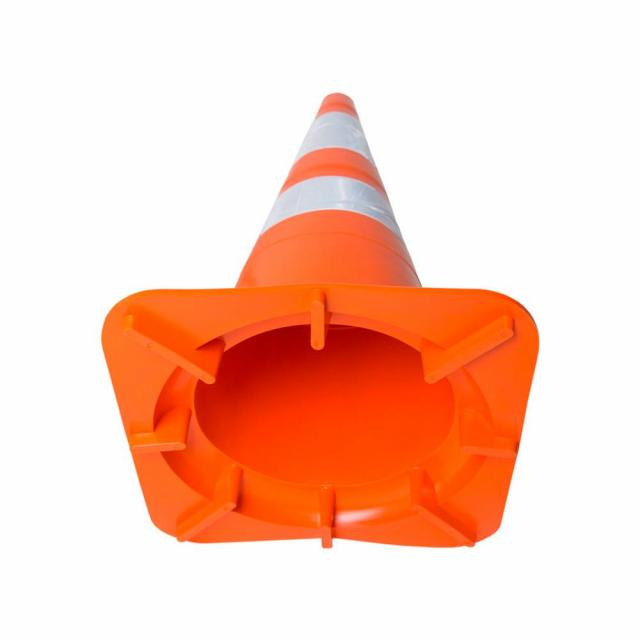cone: (115, 90, 522, 553)
